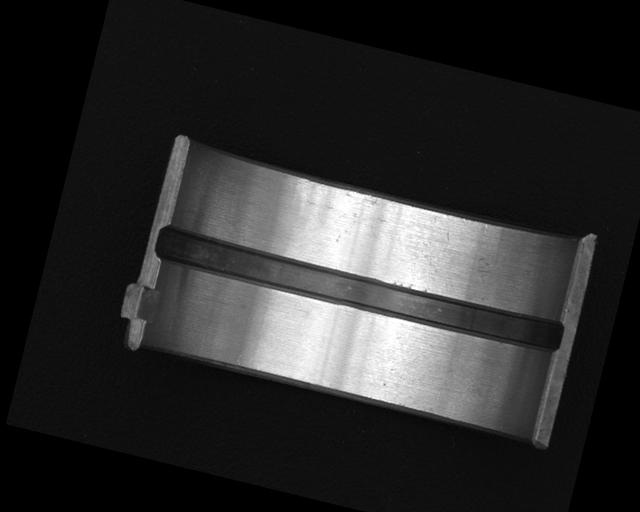gap: (149, 219, 568, 359)
